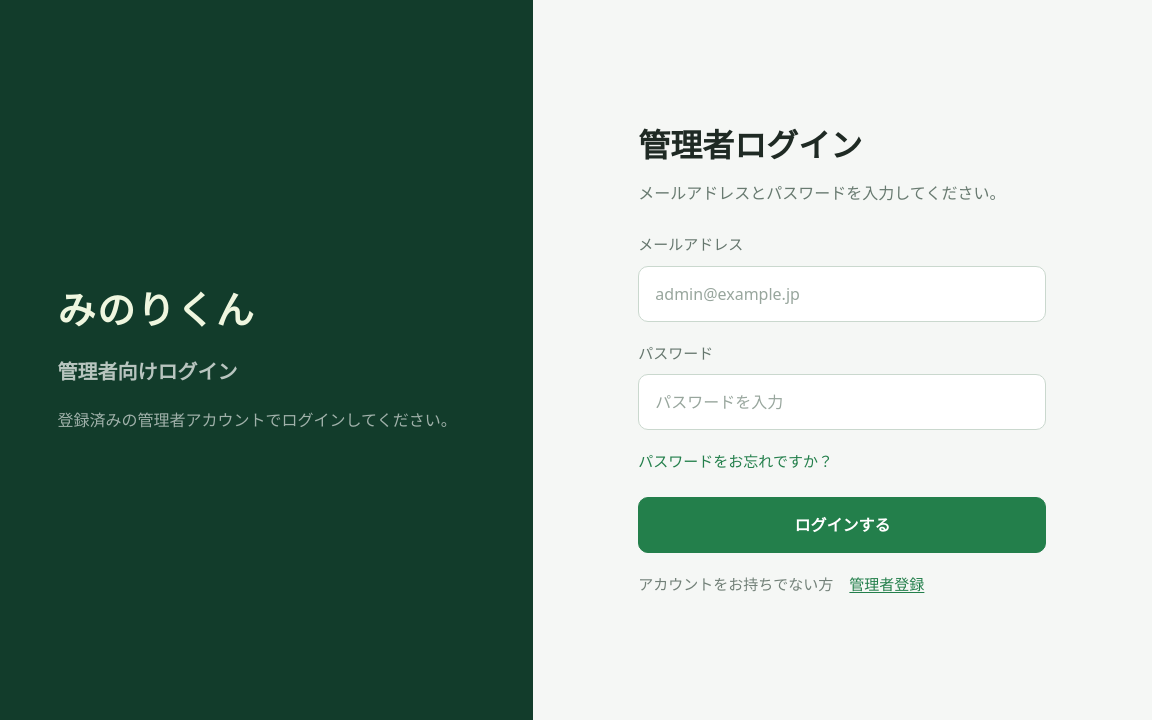
Test case: Admin Login › shows a rate-limit message after too many attempts
The width and height of the screenshot is (1152, 720).
In the field with id "admin-email": [842, 294] box [638,266,1046,322], type "admin@example.test"
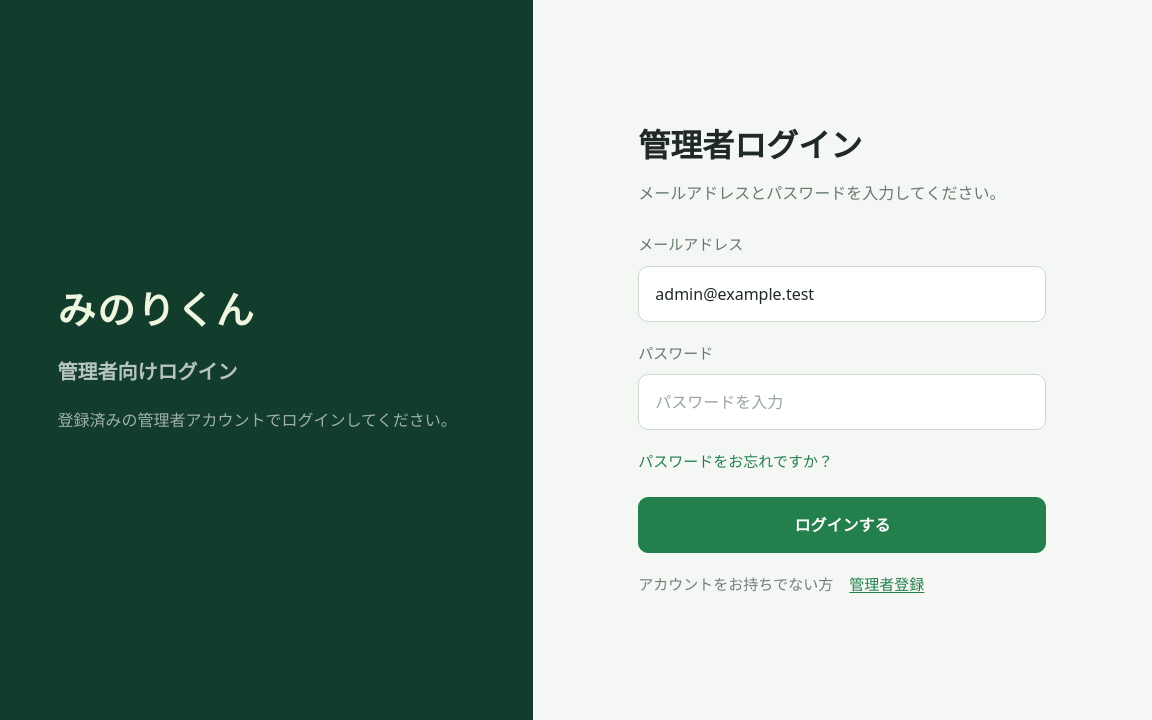
In the password field with id "admin-password": [842, 402] box [638,374,1046,430], type "secret-password"
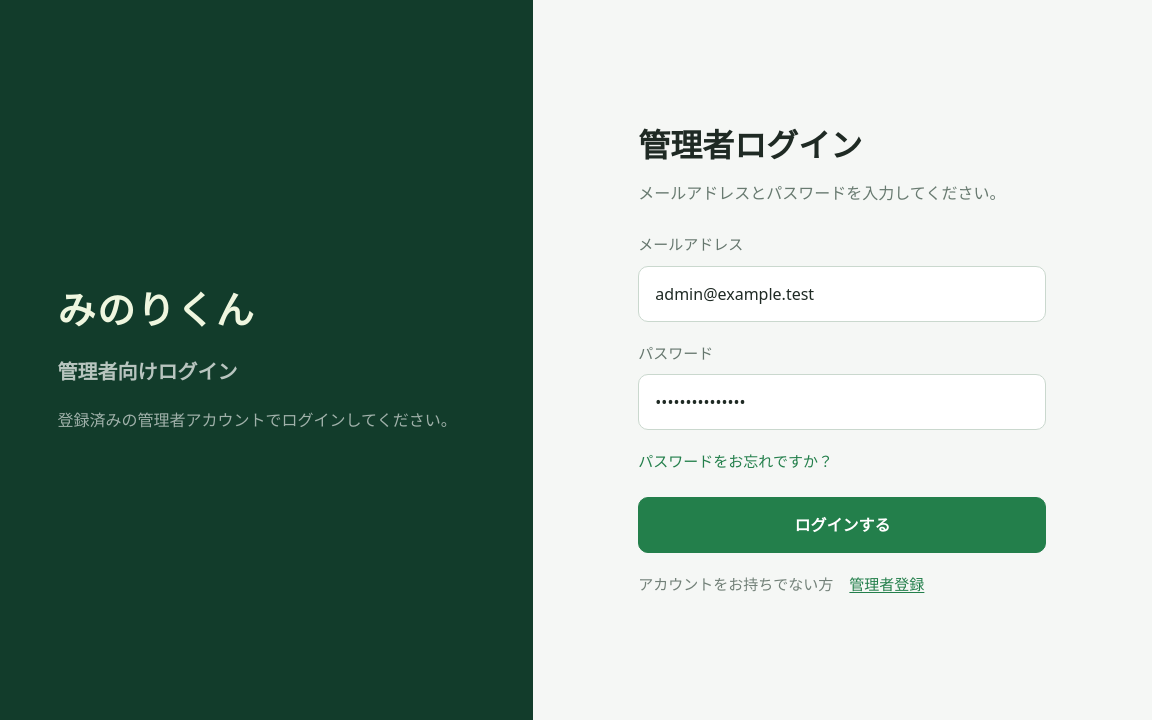
Submit the form, box [638,125,1046,595]
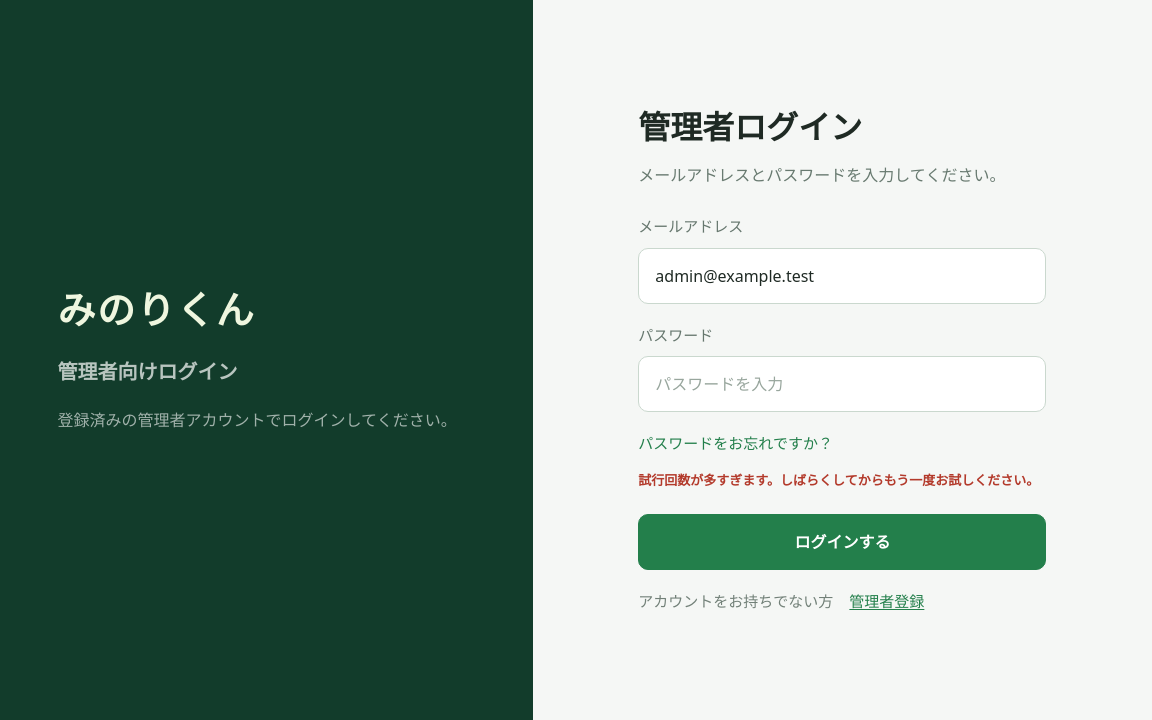
Check: the message "試行回数が多すぎます。しばらくしてからもう一度お試しください。" is shown, box [638,471,1046,490]
